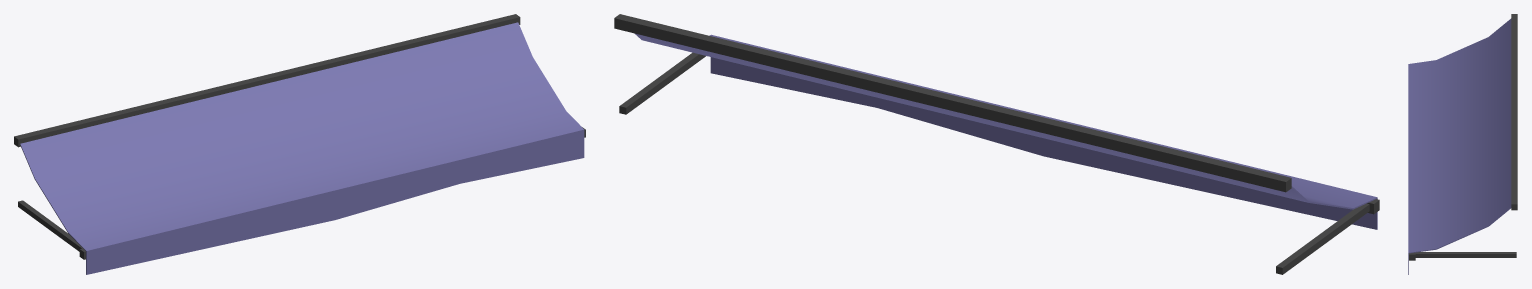
The model's file is SM_BuildingsDecor_34.fbx.
The picture shows the model from 3 angles, left to right: view 1: azimuth 30°, elevation 25°; view 2: azimuth 150°, elevation 25°; view 3: azimuth 270°, elevation 25°; orthographic projection. The views are drawn at different scales.
Parts seen in each view (by area): view 1: SM_BuildingsDecor_34; view 2: SM_BuildingsDecor_34; view 3: SM_BuildingsDecor_34.
Boxes of the visible parts, left/top/right/bottom form: SM_BuildingsDecor_34: left=14, top=14, right=585, bottom=274; SM_BuildingsDecor_34: left=614, top=14, right=1379, bottom=274; SM_BuildingsDecor_34: left=1408, top=14, right=1517, bottom=274.
Size of the model in its own units: 5 by 0.8876 by 1.22.
